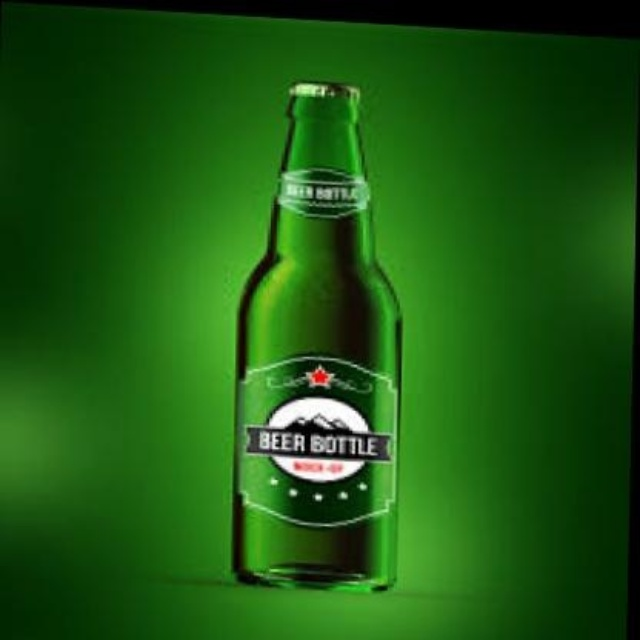trash: (235, 83, 398, 588)
